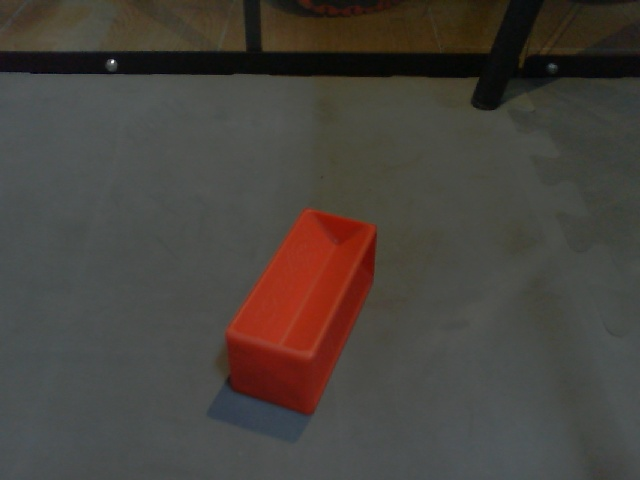RedSample: (223, 206, 380, 418)
